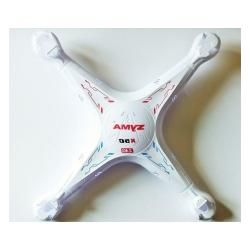drone: (29, 29, 231, 222)
